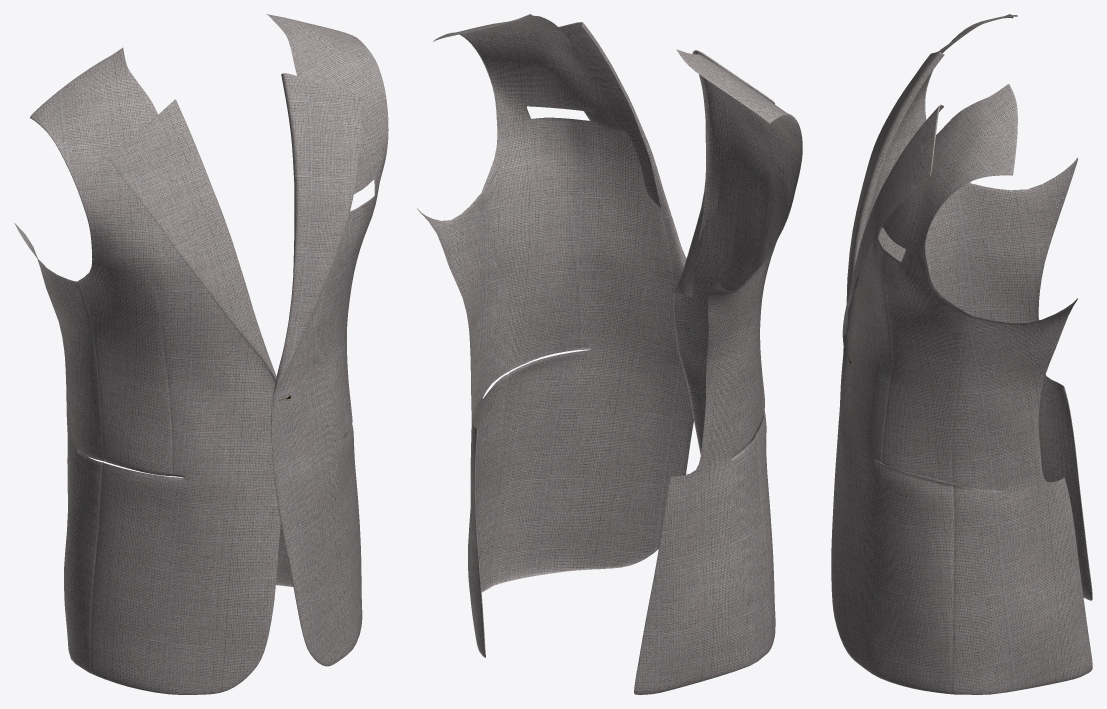
File: notch_single_button_wide.glb
The picture shows the model from 3 angles, left to right: view 1: azimuth 30°, elevation 25°; view 2: azimuth 150°, elevation 25°; view 3: azimuth 270°, elevation 25°; orthographic projection. The views are drawn at different scales.
Parts seen in each view (by area): view 1: notch_single_button_wide1; view 2: notch_single_button_wide1; view 3: notch_single_button_wide1.
Boxes of the visible parts, left/top/right/bottom form: notch_single_button_wide1: left=14, top=14, right=388, bottom=694; notch_single_button_wide1: left=417, top=14, right=802, bottom=694; notch_single_button_wide1: left=831, top=14, right=1092, bottom=694.
Bounding box in the file's own units: 0.0585 × 0.102 × 0.0411.
2 materials, 2 textured.
